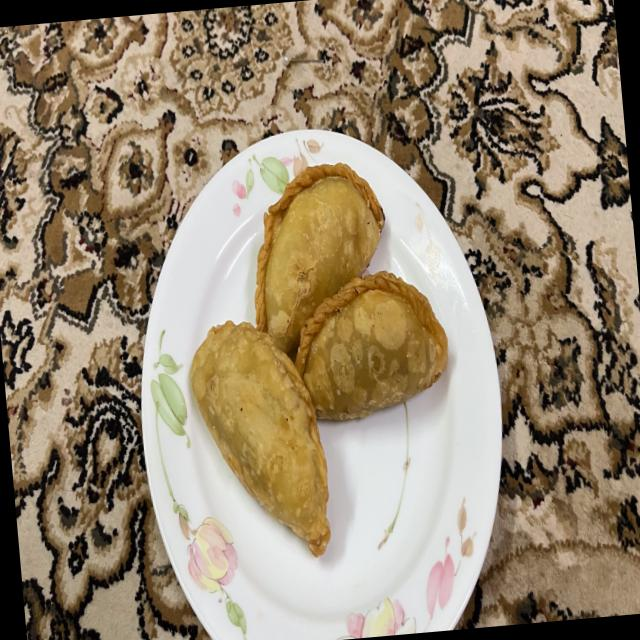karipap: (189, 321, 330, 555), (254, 162, 384, 358), (296, 272, 447, 421)
